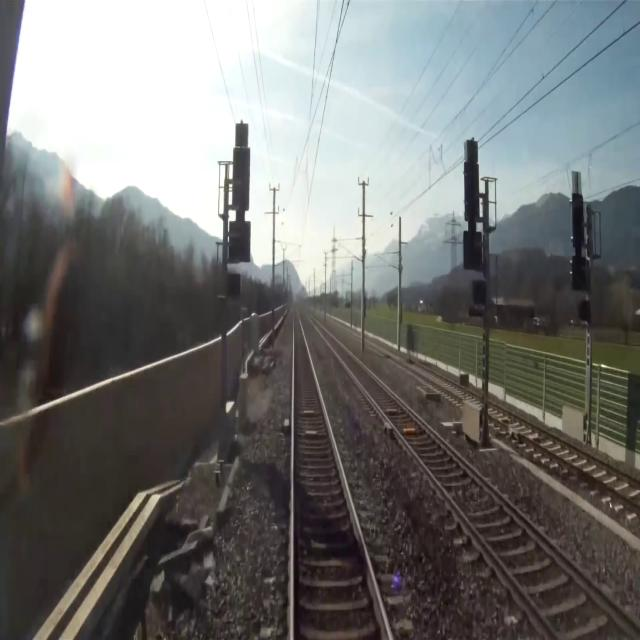rail-track: (312, 319, 640, 639), (294, 305, 389, 639), (488, 404, 640, 501), (379, 346, 480, 405)
